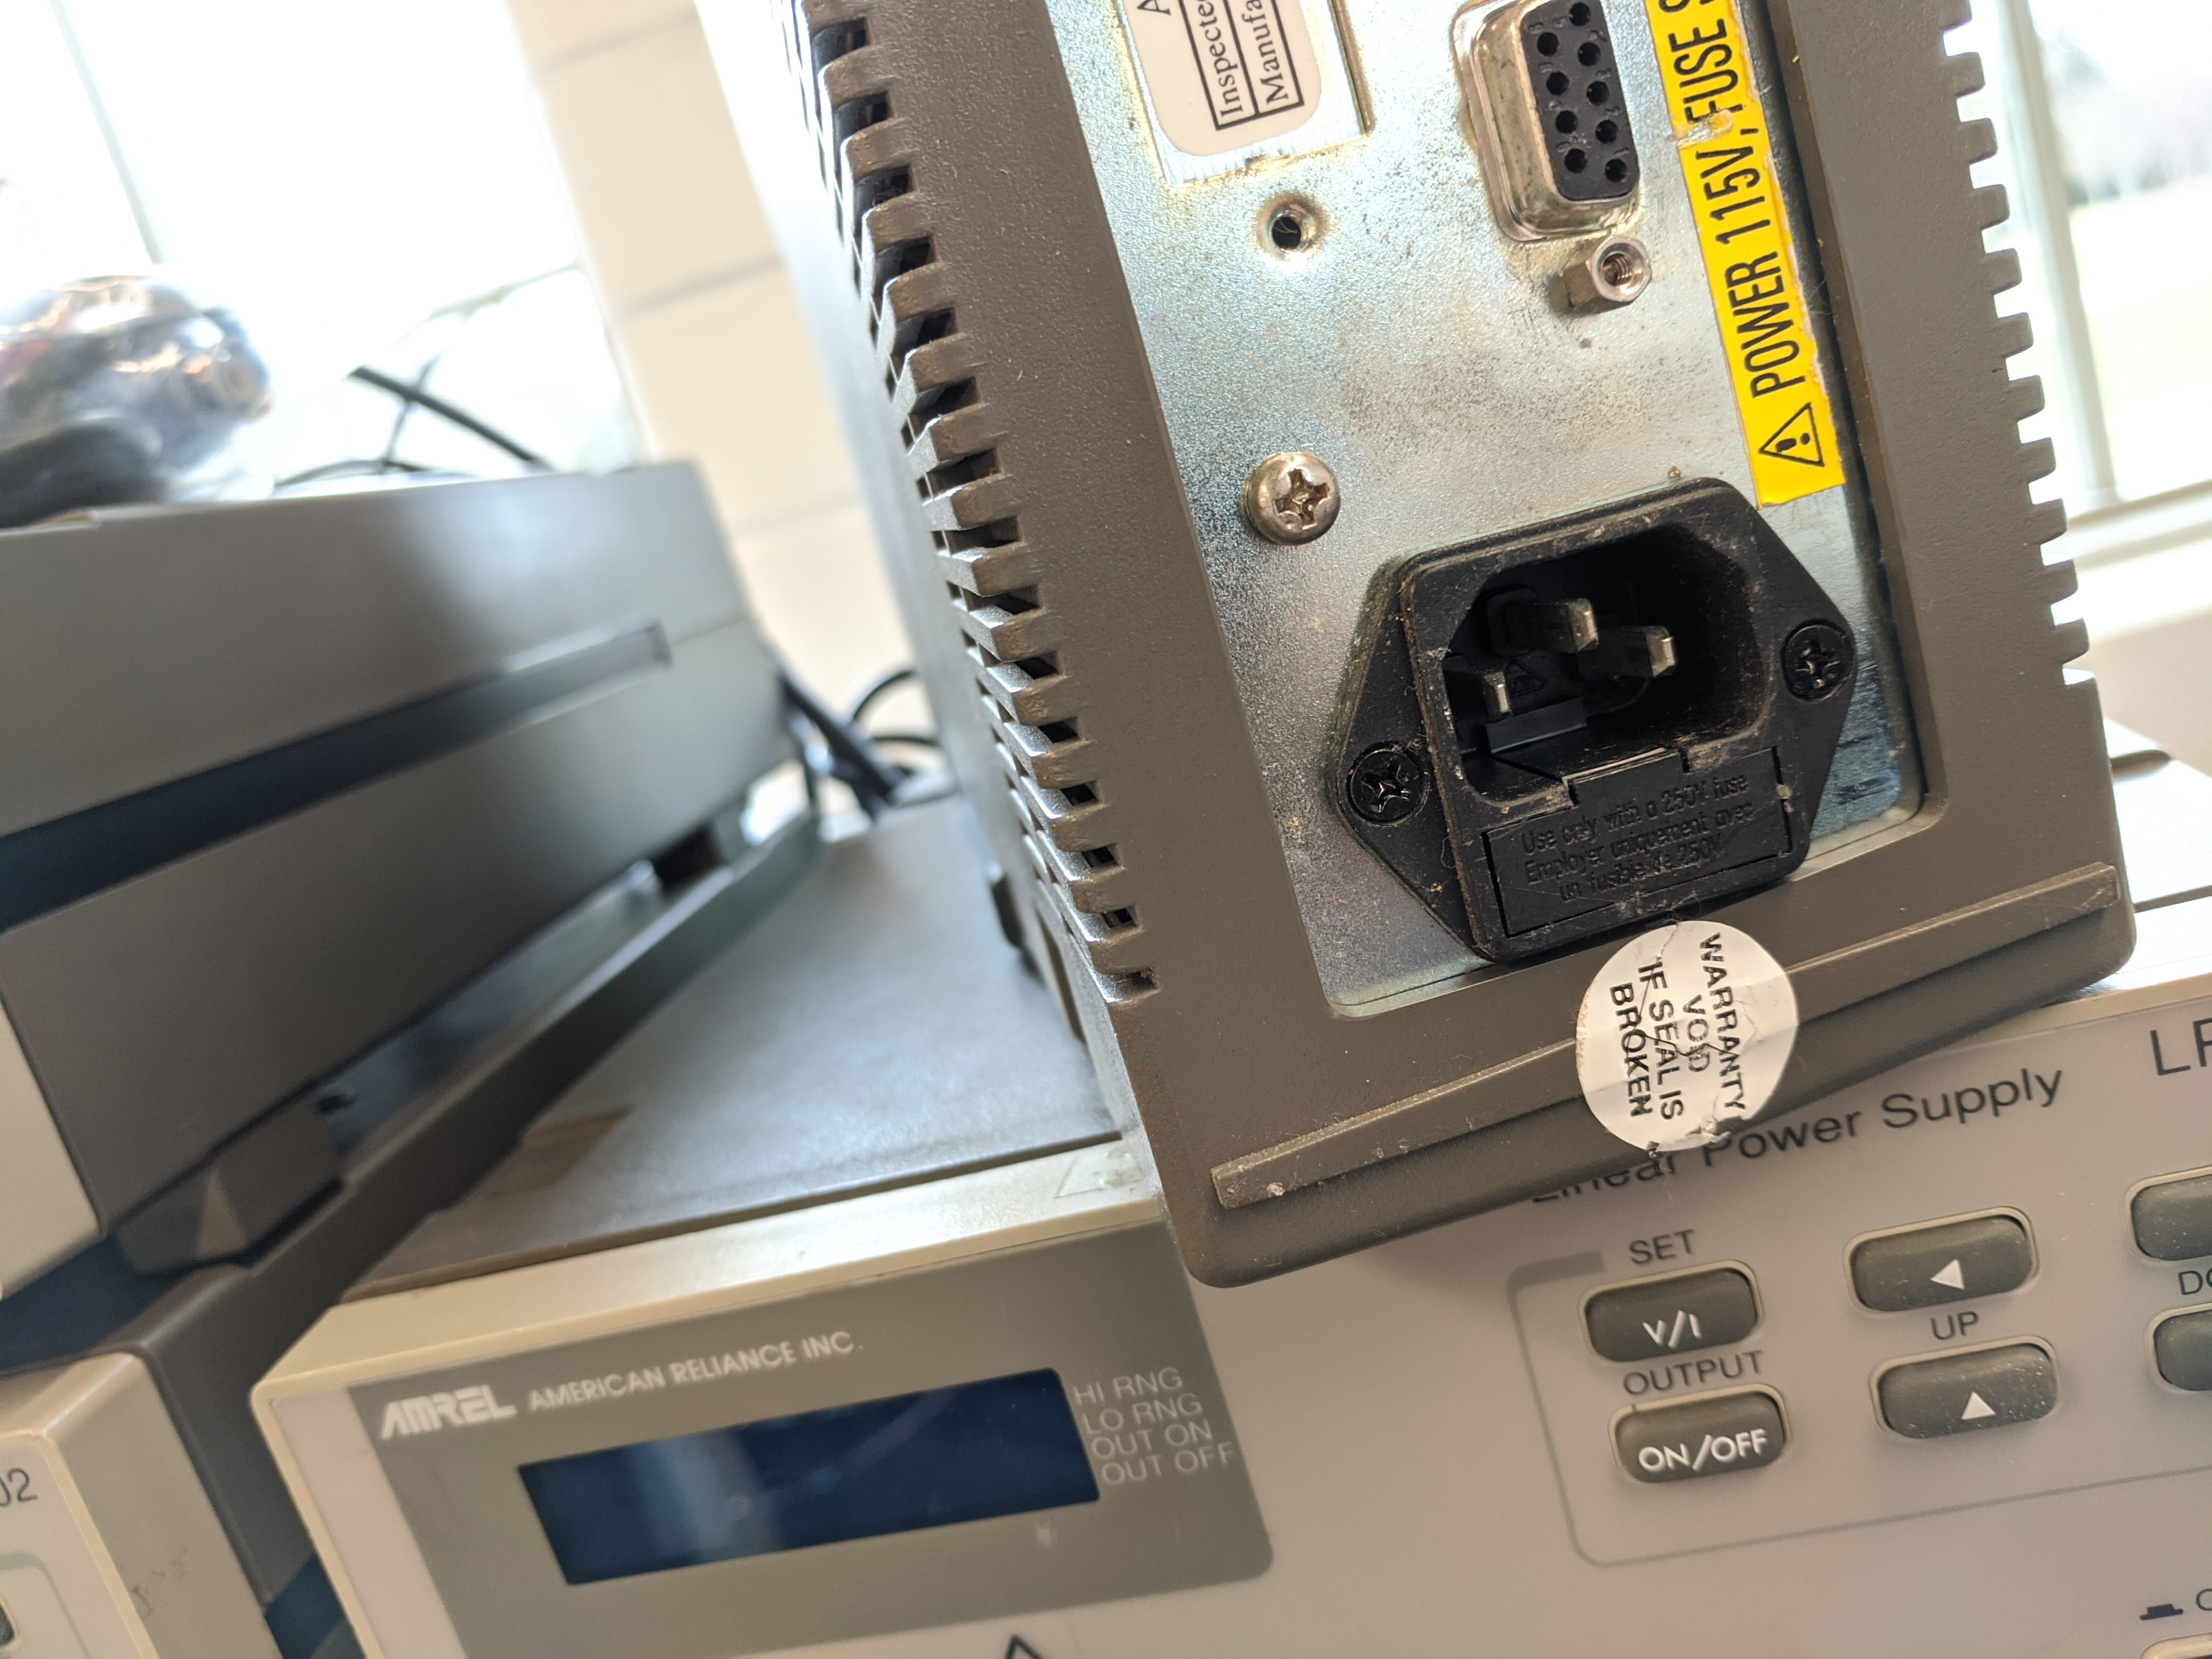cross_recessed_screw: (1228, 432, 1348, 547), (1778, 603, 1862, 711), (1343, 734, 1430, 824)
